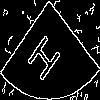H: (25, 25, 67, 84)
